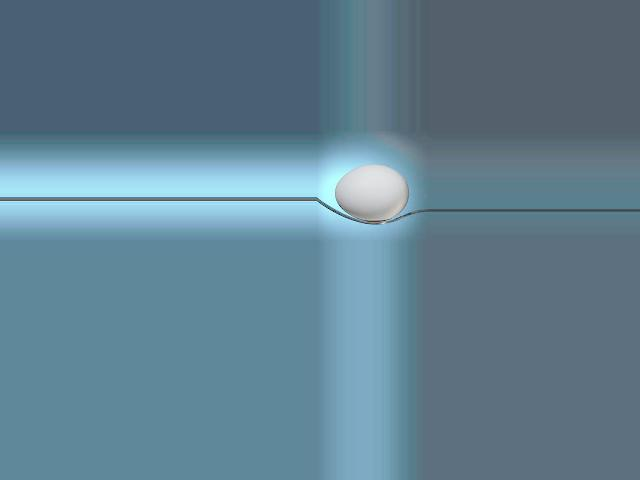egg: (335, 165, 409, 221)
